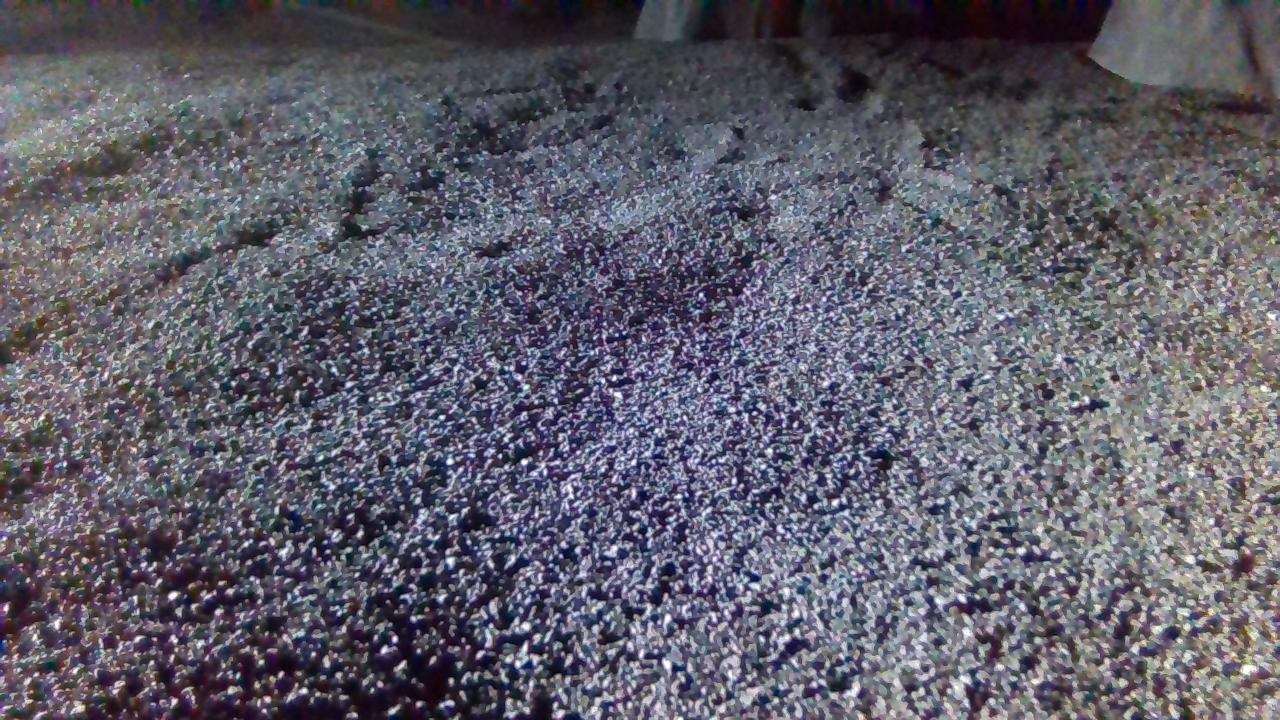rock: (1091, 0, 1280, 96), (635, 0, 896, 39)
